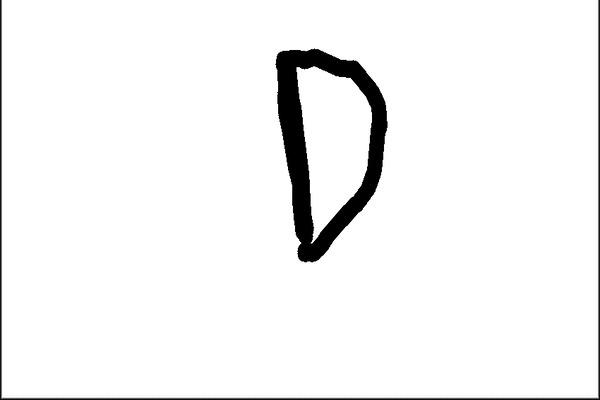D: (266, 41, 396, 267)
